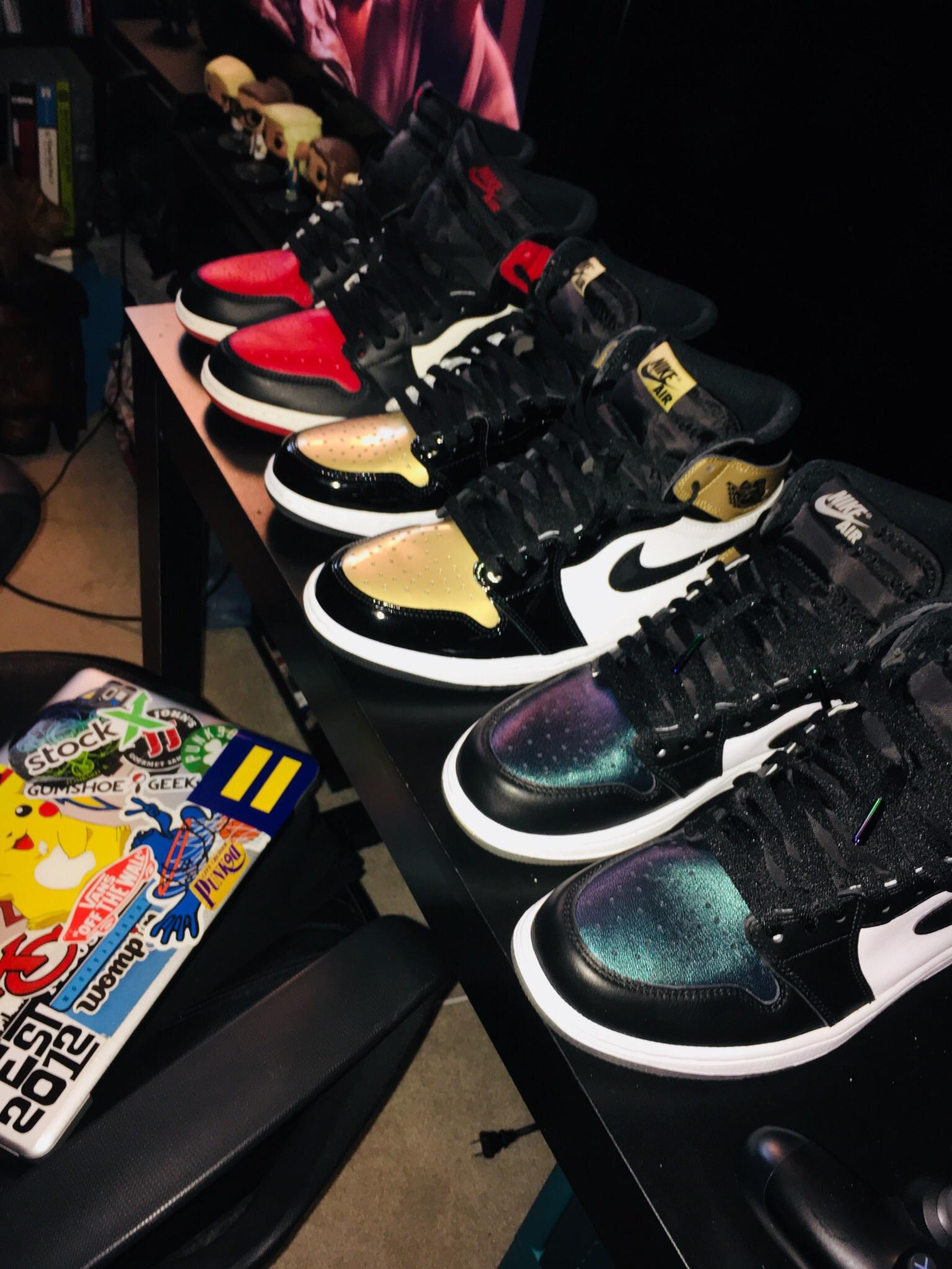sneaker: (429, 455, 952, 914), (293, 304, 833, 722), (488, 653, 952, 1097), (246, 220, 688, 570), (190, 167, 629, 459)
